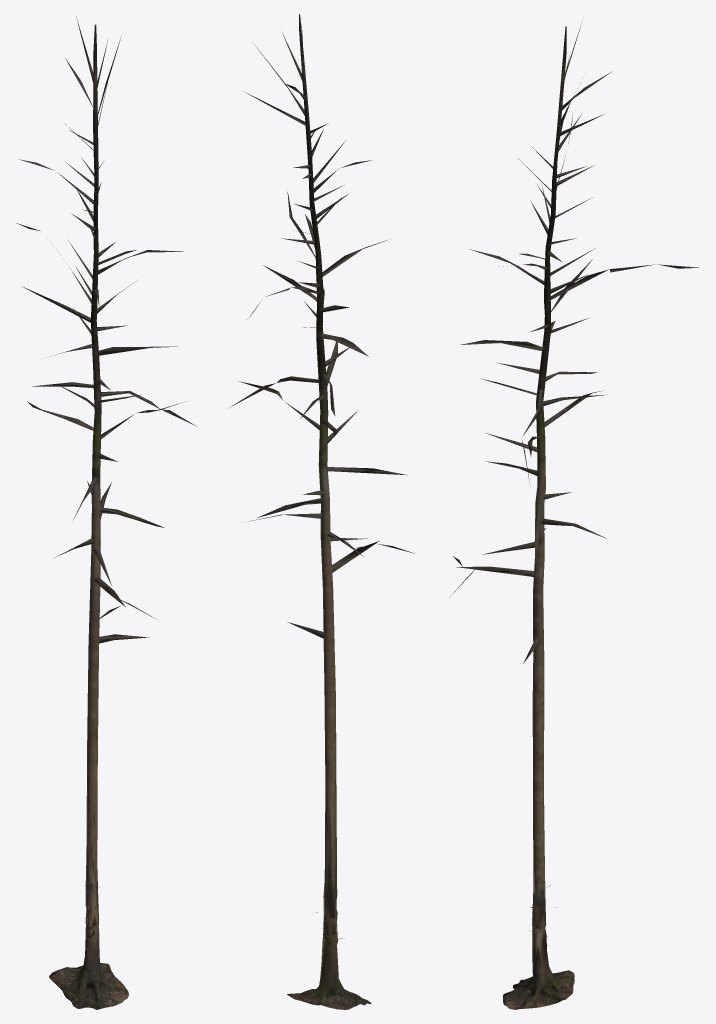
File: pine-wood-low.glb
3 views of the same model, side by side, from view 1: azimuth 30°, elevation 25°; view 2: azimuth 150°, elevation 25°; view 3: azimuth 270°, elevation 25° (orthographic). The views are drawn at different scales.
Visible parts, largest first — view 1: greyvale-pine; view 2: greyvale-pine; view 3: greyvale-pine.
Boxes of the visible parts, bbox=[...] form: greyvale-pine: bbox=[16, 16, 196, 1009]; greyvale-pine: bbox=[229, 14, 414, 1009]; greyvale-pine: bbox=[449, 23, 698, 1009].
Size of the model in its own units: 3.08 by 17.67 by 4.14.
Materials: 2 (2 with a texture image).
